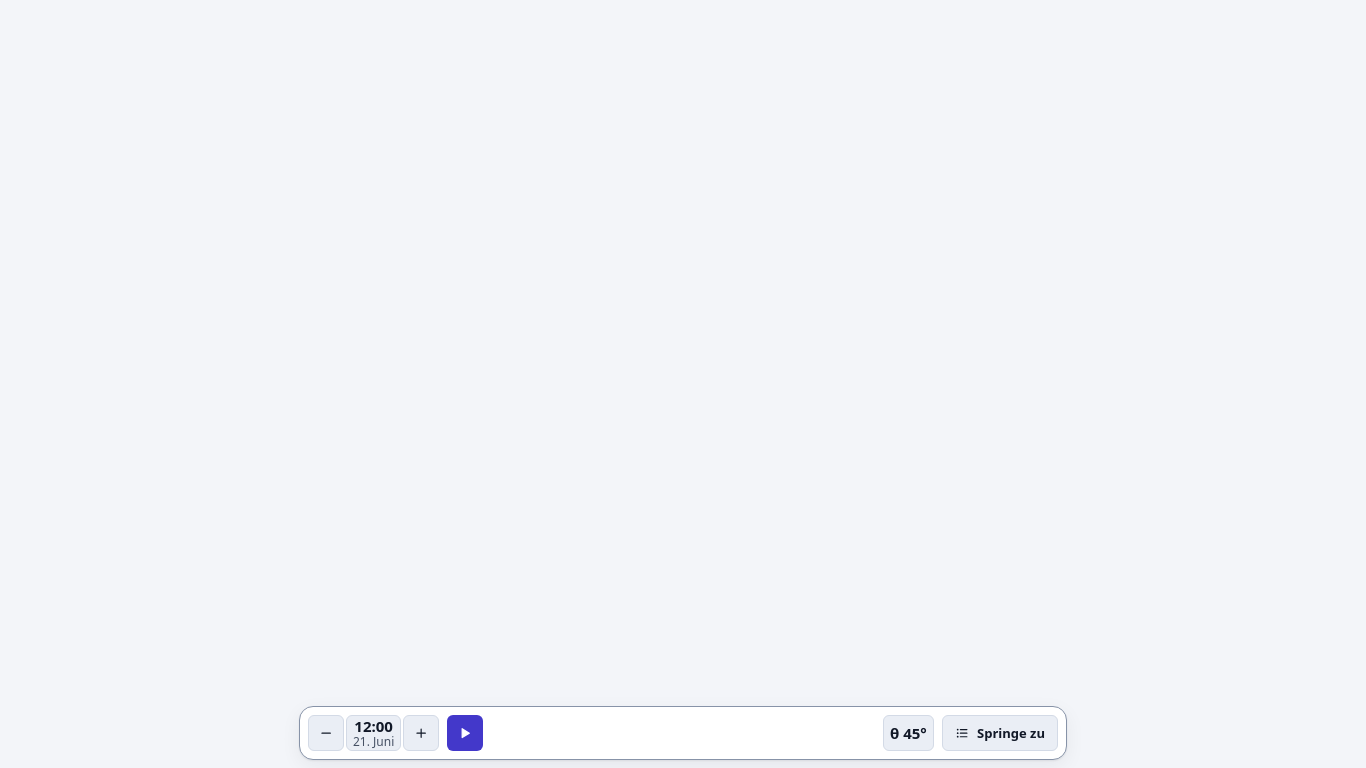
Test: BottomBar › "Springe zu" scrolls to and focuses a region without changing the share hash
The width and height of the screenshot is (1366, 768).
Click the button "Springe zu": (1000, 733) [942, 715, 1058, 751]
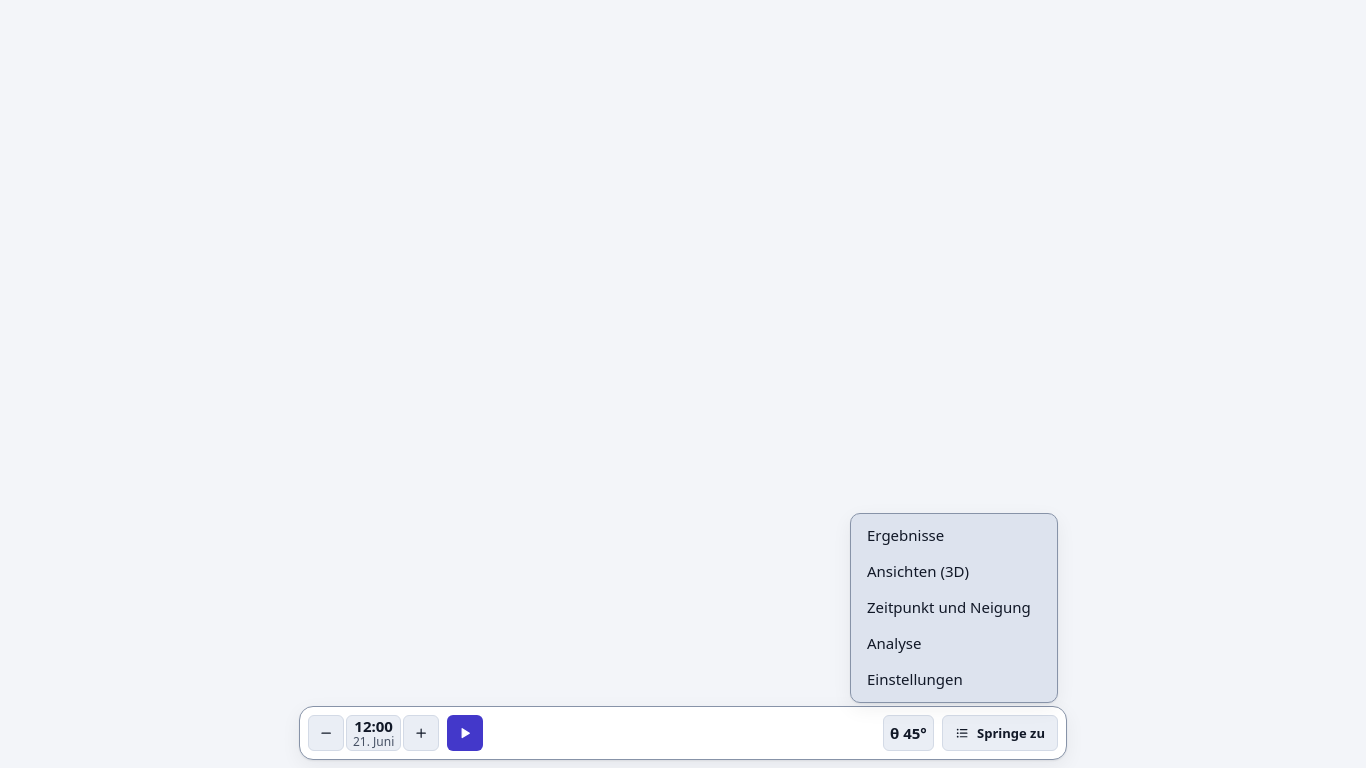
Expected: the links read "Ergebnisse", "Ansichten (3D)", "Zeitpunkt und Neigung", "Analyse", "Einstellungen", in this order
Click the link "Einstellungen": (915, 679) [867, 669, 963, 689]
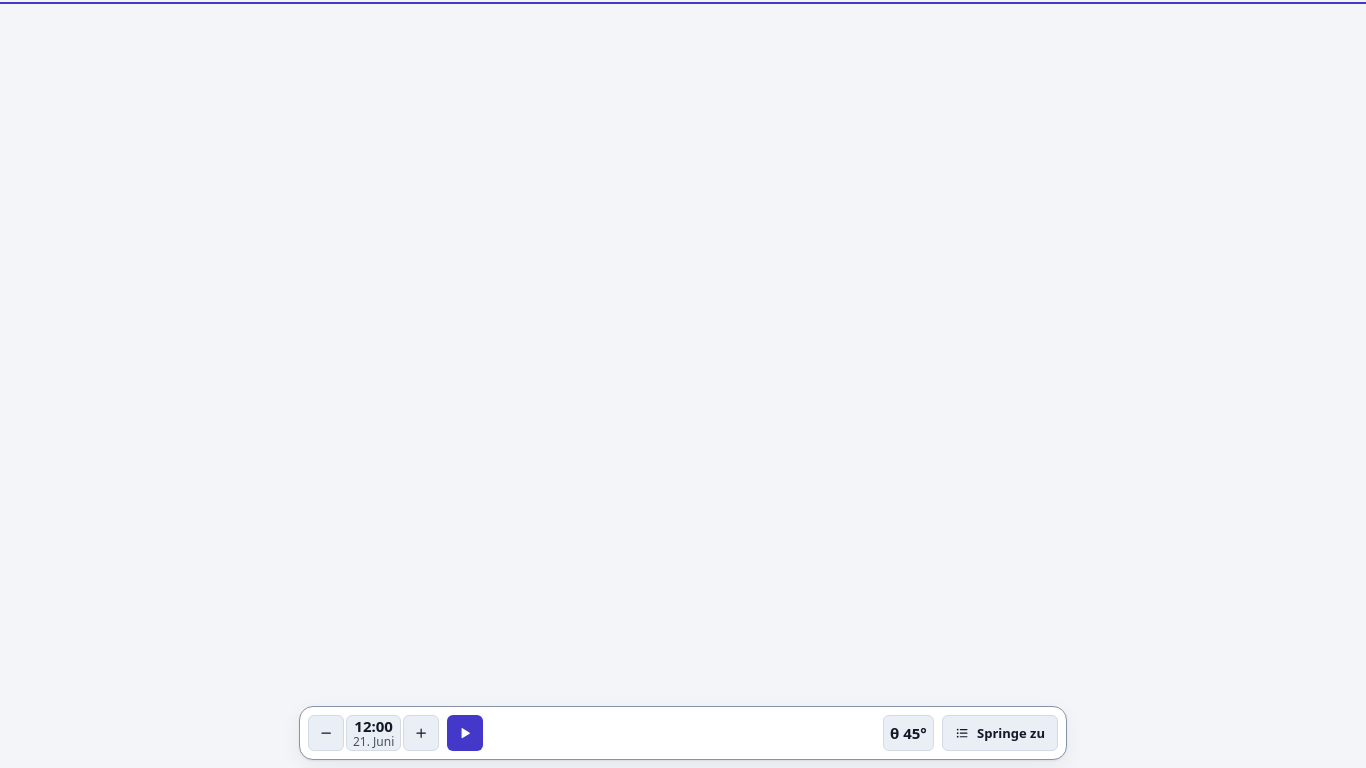
Expected: the navigation bar is gone
